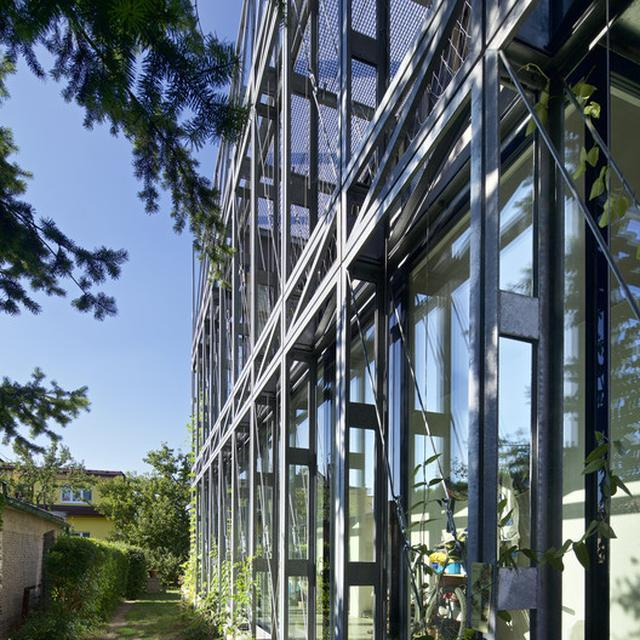building: (186, 0, 640, 640), (0, 441, 137, 618)
